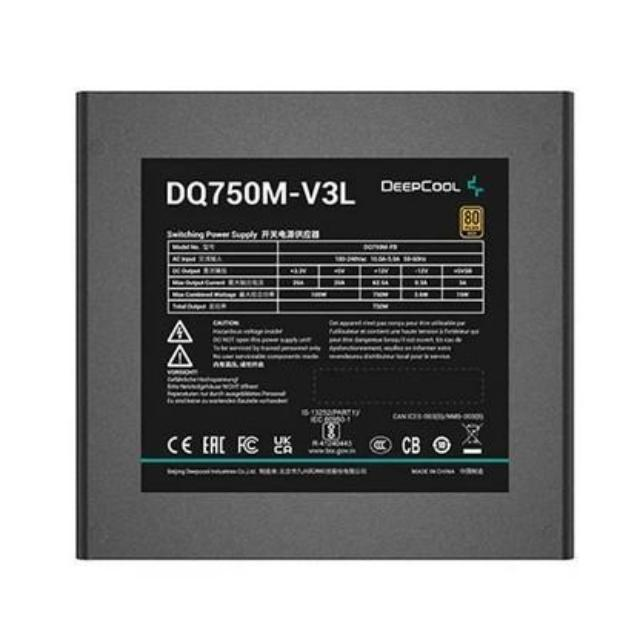PSU: (70, 79, 588, 567)
